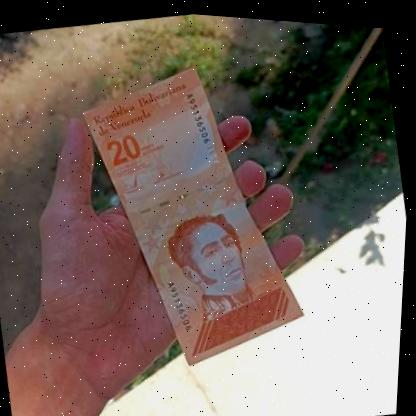twenty-front-vef: (67, 40, 325, 383)
